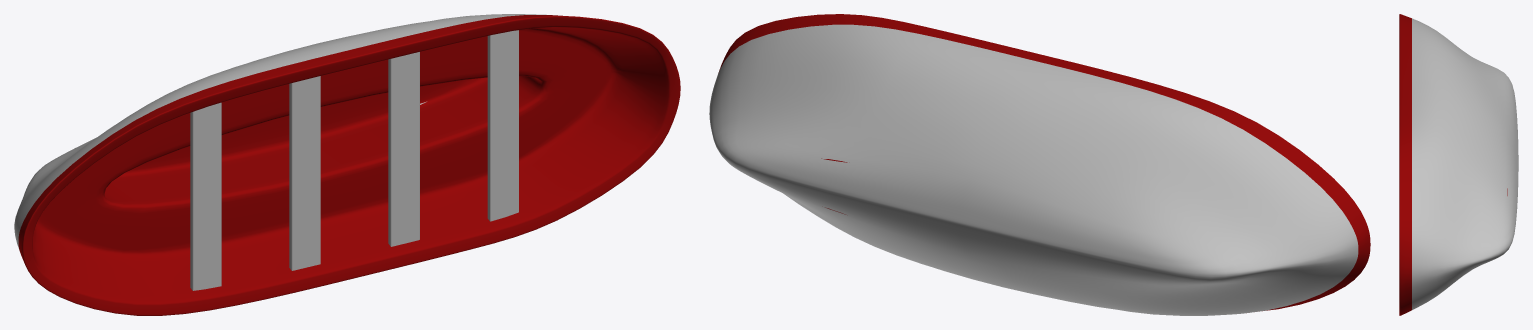
Rendered from LifeBoat.fbx.
3 renders of one model, left to right at view 1: azimuth 30°, elevation 25°; view 2: azimuth 150°, elevation 25°; view 3: azimuth 270°, elevation 25°, orthographic. The views are drawn at different scales.
Visible parts, largest first — view 1: Lifeboat, Box295; view 2: Lifeboat; view 3: Lifeboat.
Part boxes in pixels (x1,y1,x2,y2): Lifeboat: [14, 14, 680, 315]; Box295: [190, 30, 518, 290]; Lifeboat: [709, 14, 1370, 315]; Lifeboat: [1399, 14, 1518, 315].
Bounding box in the file's own units: 95.51 × 30.74 × 20.6.
